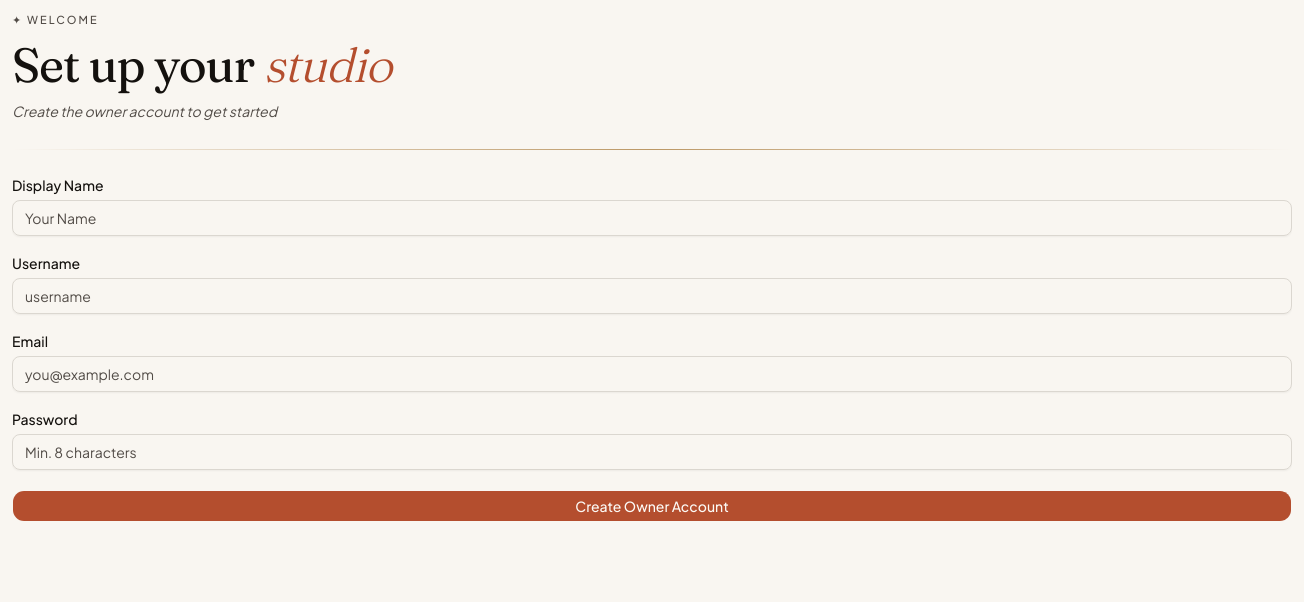
Test case: SetupForm › shows error message when setup-owner API returns not ok
This screenshot has width=1304, height=602.
In the field labelled "Display Name": (652, 218) [12,200,1292,236], type "Owner User"
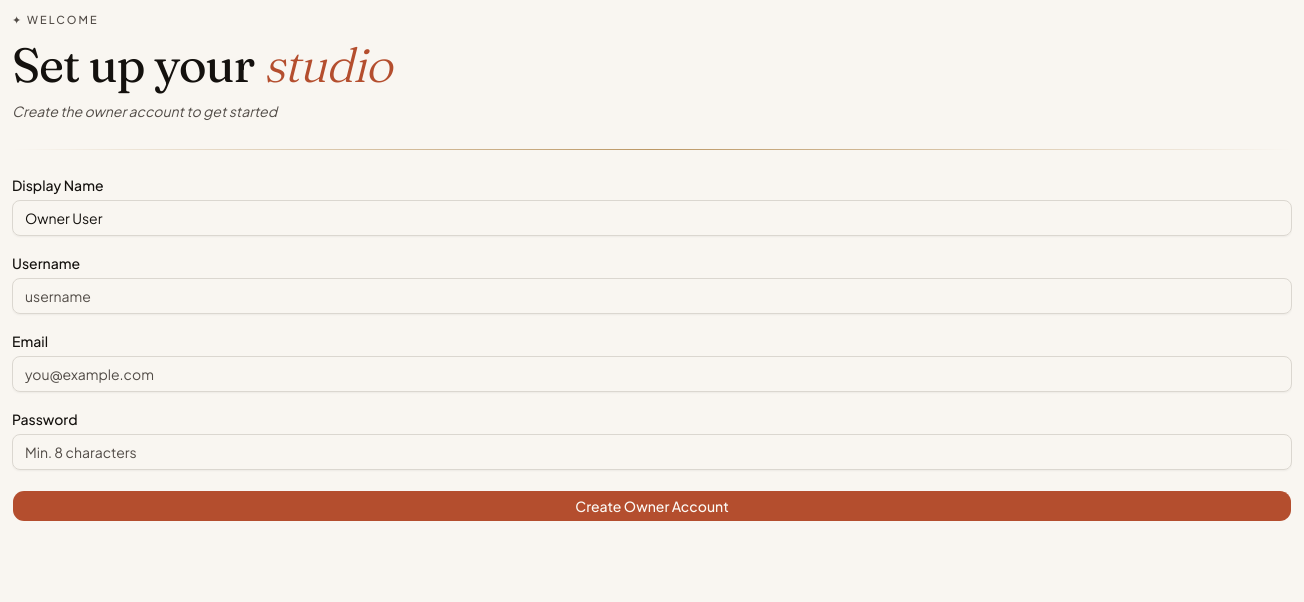
In the field labelled "Username": (652, 296) [12,278,1292,314], type "owneruser"
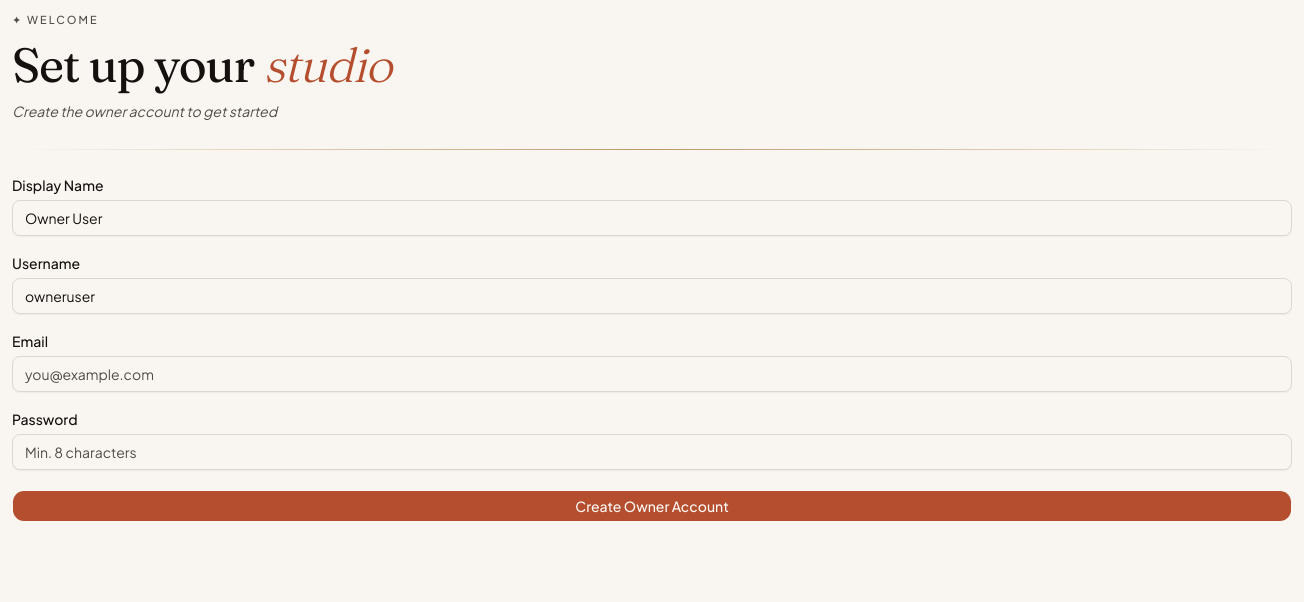
In the field labelled "Email": (652, 374) [12,356,1292,392], type "owner@test.com"
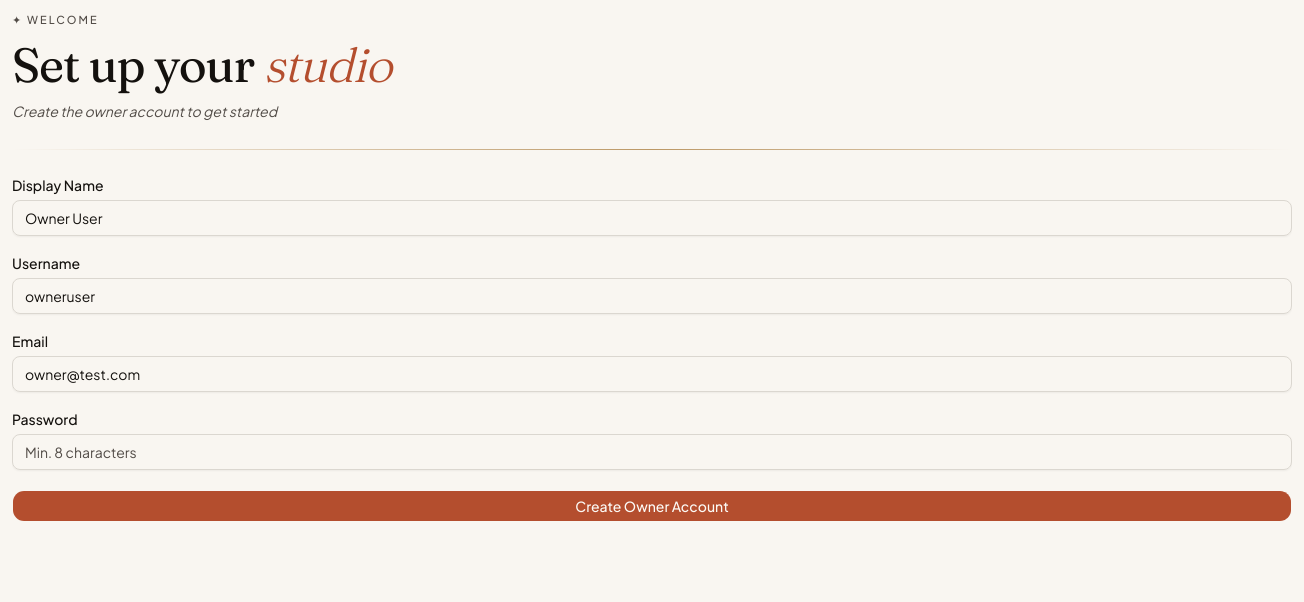
In the password field labelled "Password": (652, 452) [12,434,1292,470], type "password123"
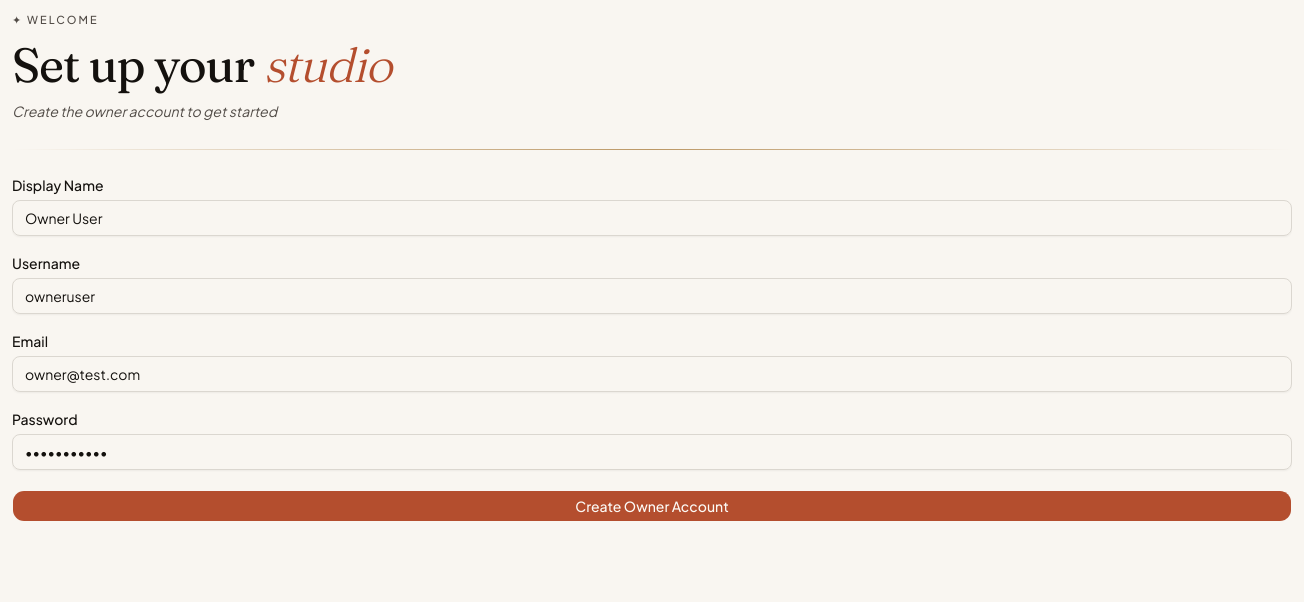
Click the button "Create Owner Account": (652, 506) [12,490,1292,522]
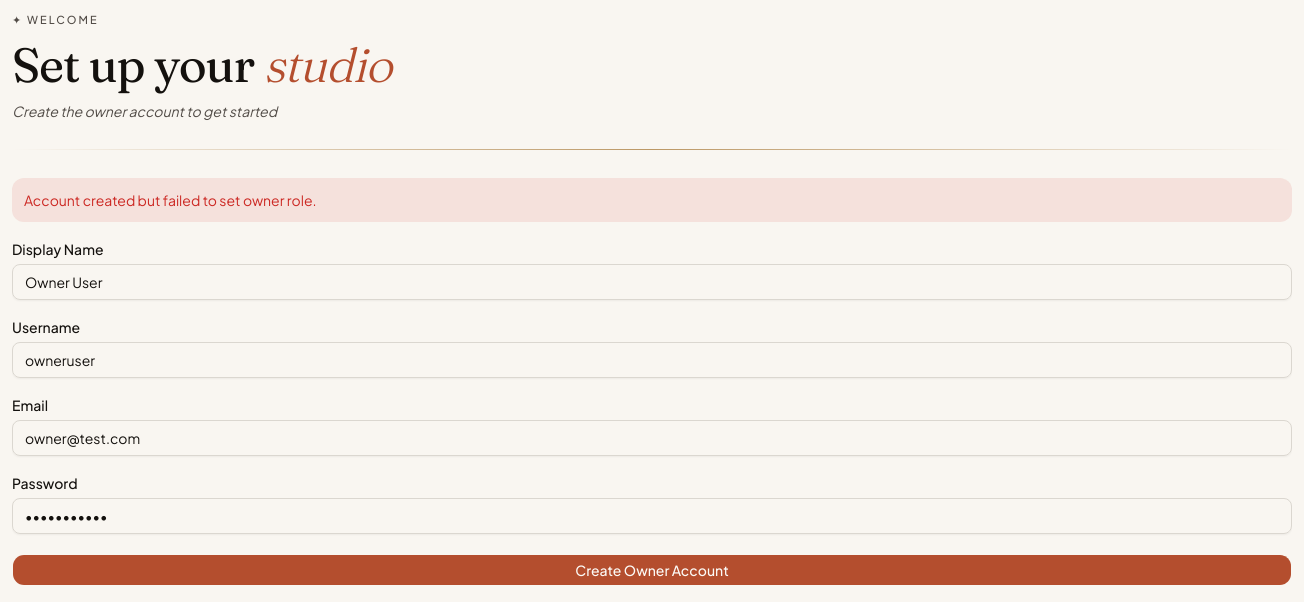
Expected: the text "Account created but failed to set owner role." is shown, [12,178,1292,222]
